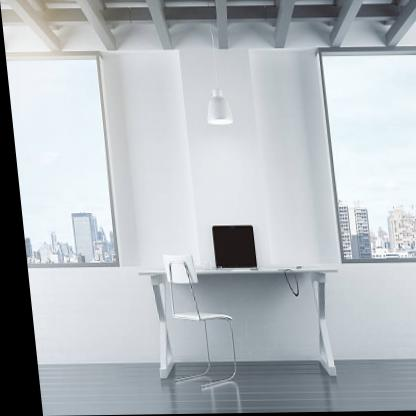Window: (9, 49, 113, 266), (319, 50, 416, 265)
